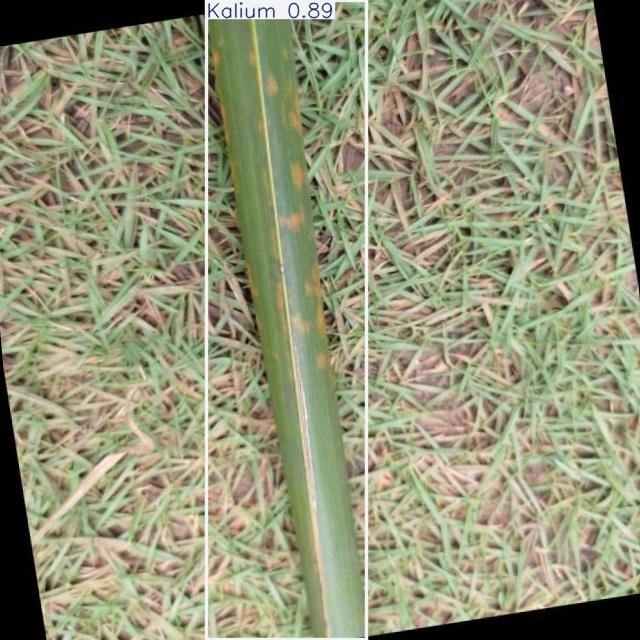Kalium: (207, 1, 366, 640)
